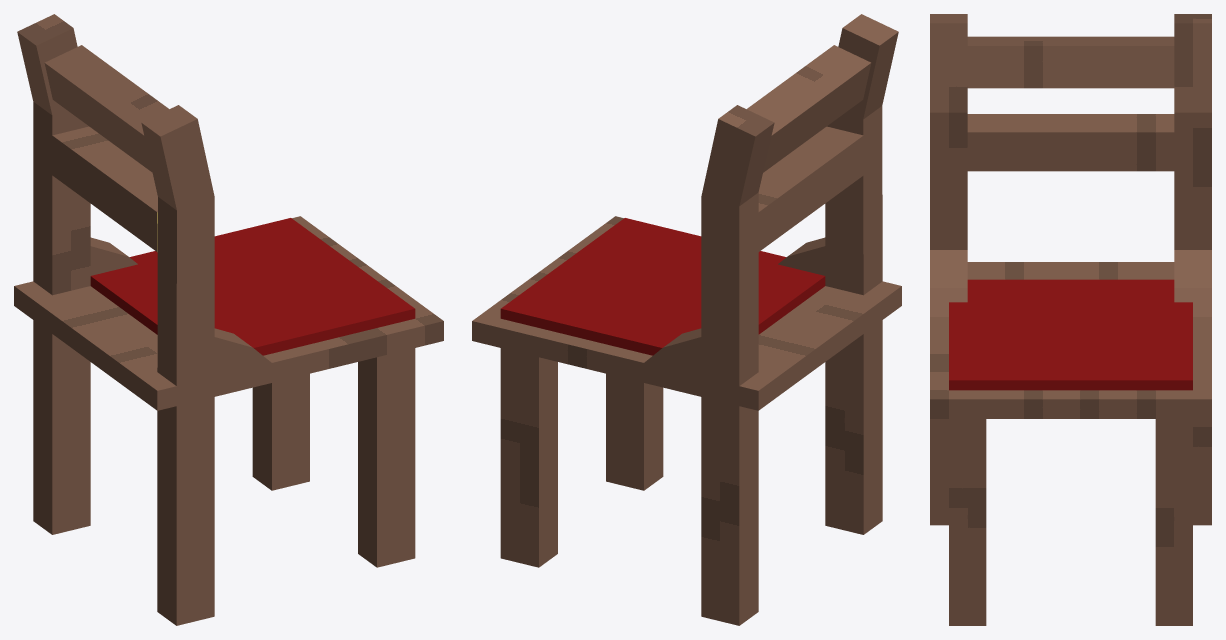
The model's file is cadeira.fbx.
The picture shows the model from 3 angles, left to right: view 1: azimuth 30°, elevation 25°; view 2: azimuth 150°, elevation 25°; view 3: azimuth 270°, elevation 25°; orthographic projection.
Visible parts, largest first — view 1: cube; view 2: cube; view 3: cube.
Part boxes in pixels (<box>): cube: <box>14,14,443,625</box>; cube: <box>472,14,901,625</box>; cube: <box>930,14,1211,625</box>.
Bounding box in the file's own units: 93.75 × 157 × 81.25.
Materials: 1 (1 with a texture image).
